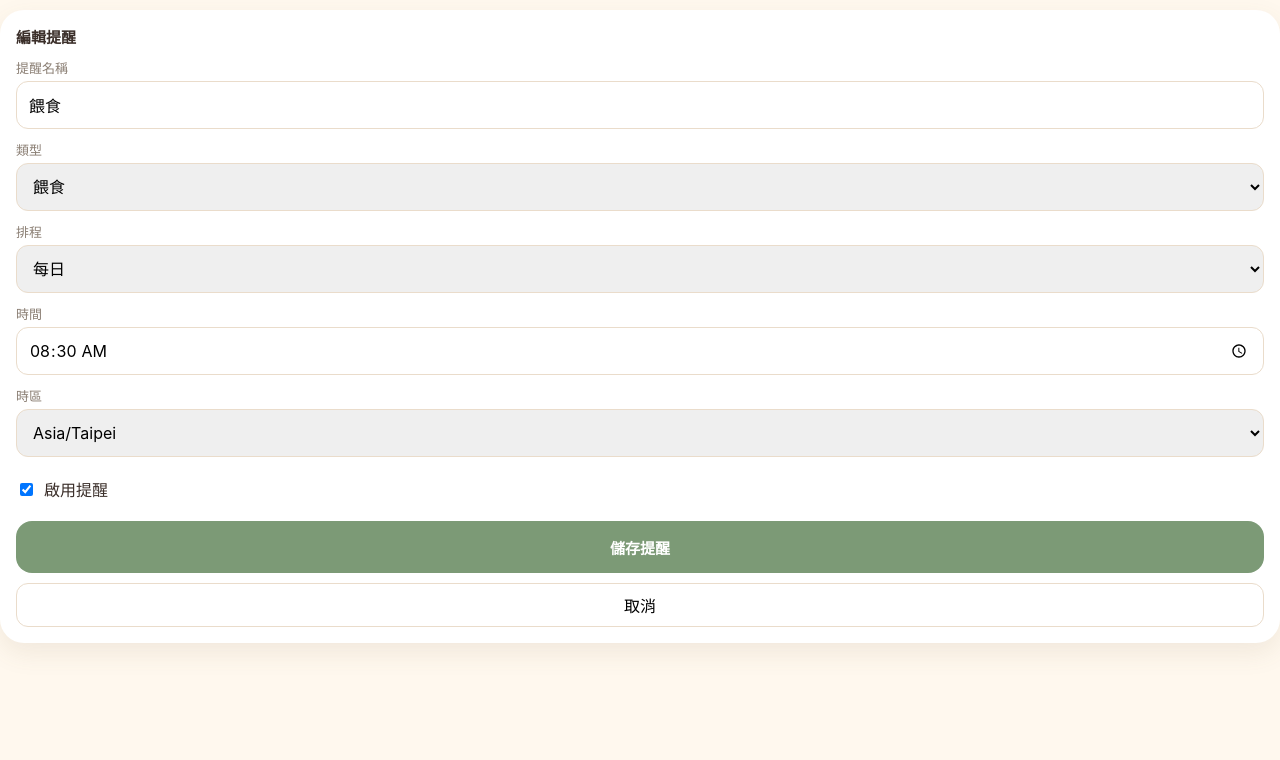
Test: ReminderForm › shows a conflict banner with the current revision and changed fields
The image size is (1280, 760).
Replace the text in the field labelled "提醒名稱" with "我的版本": (640, 105) x1=16 y1=81 x2=1264 y2=129
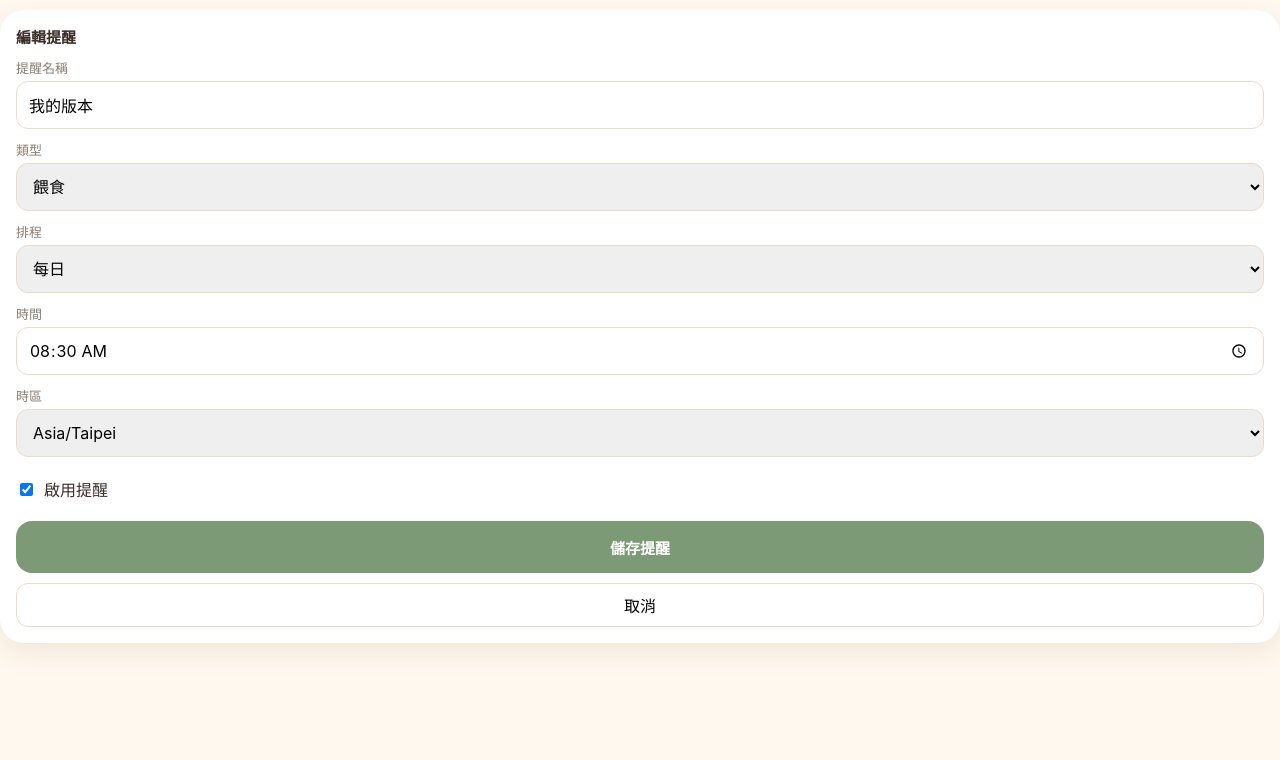
Click the button "儲存提醒": (640, 547) x1=16 y1=521 x2=1264 y2=573
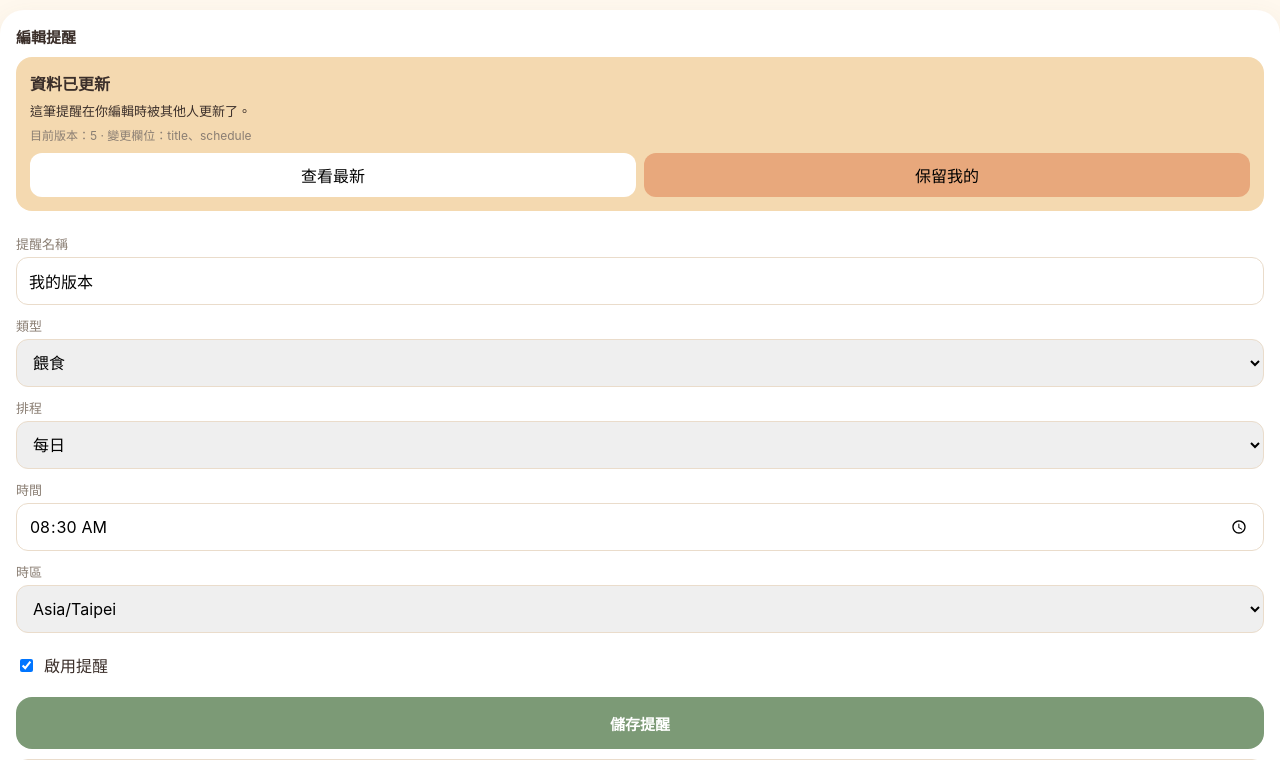
Expected: the text "資料已更新" is shown, x1=30 y1=74 x2=110 y2=94
Expected: the text "目前版本：5 · 變更欄位：title、schedule" is shown, x1=30 y1=128 x2=252 y2=143
Click the button "查看最新": (333, 175) x1=30 y1=153 x2=636 y2=197
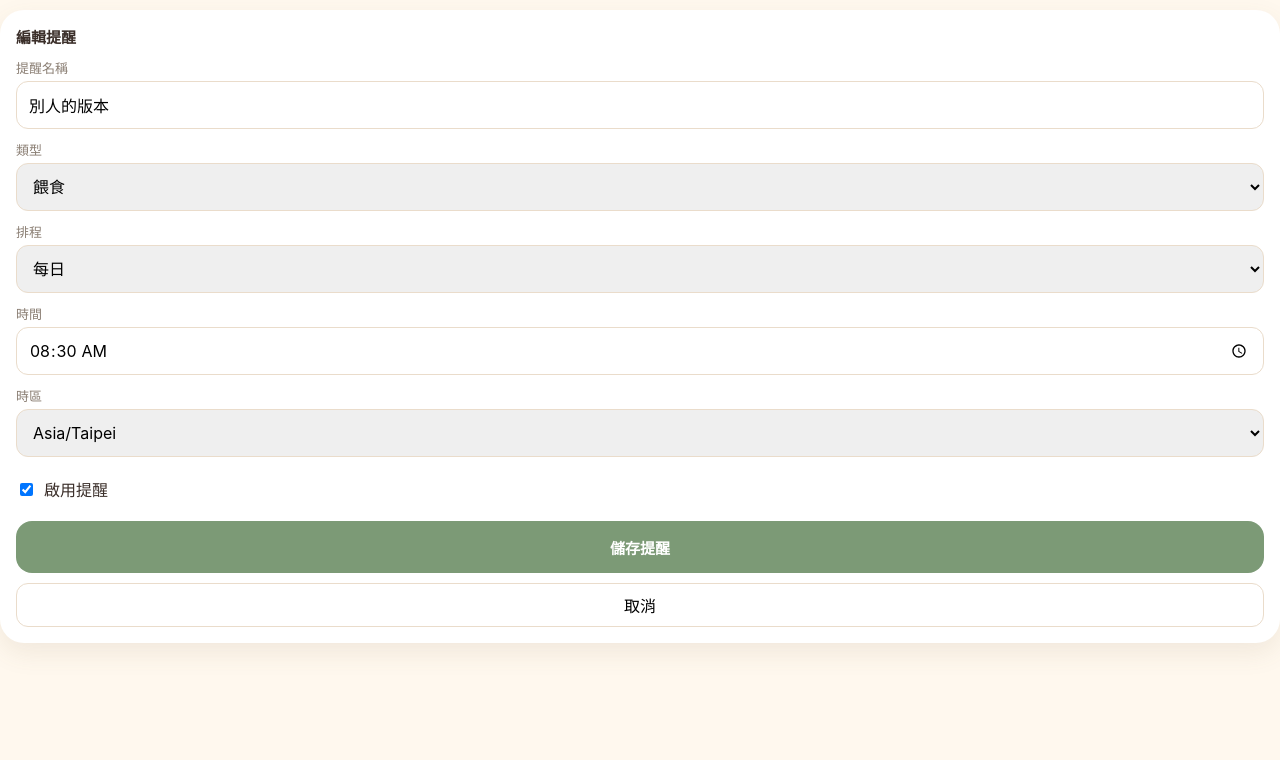
Expected: the field labelled "提醒名稱" holds "別人的版本", x1=16 y1=81 x2=1264 y2=129
